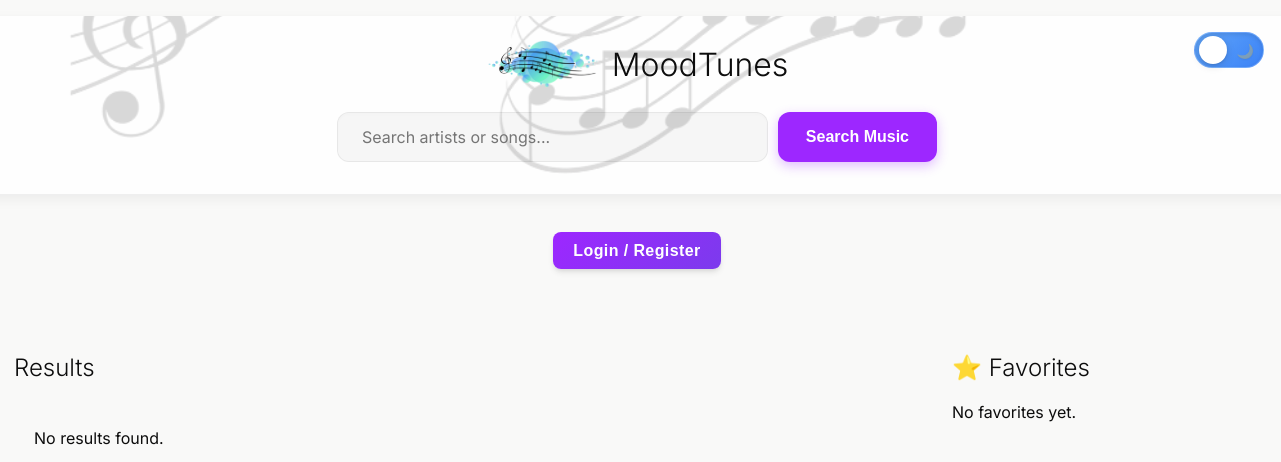
Test case: App Component › Search Flow › clears search
Type "Val" into the field with placeholder "Search artists or songs...".
click(552, 137); type("Val")  # box top-left (337, 112), bottom-right (768, 162)
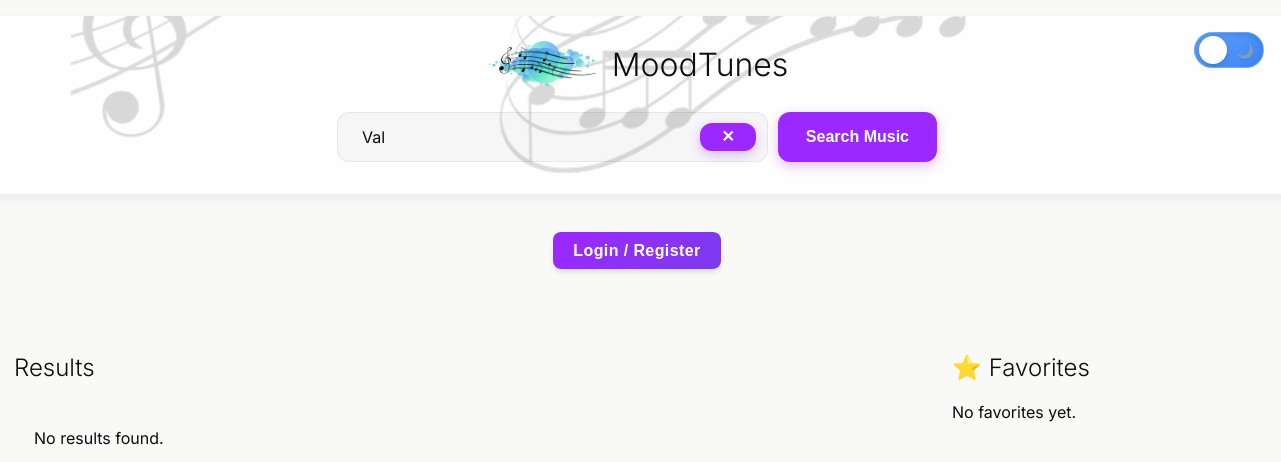
Click the button named "Clear search".
click(728, 137)  # box top-left (700, 123), bottom-right (756, 151)
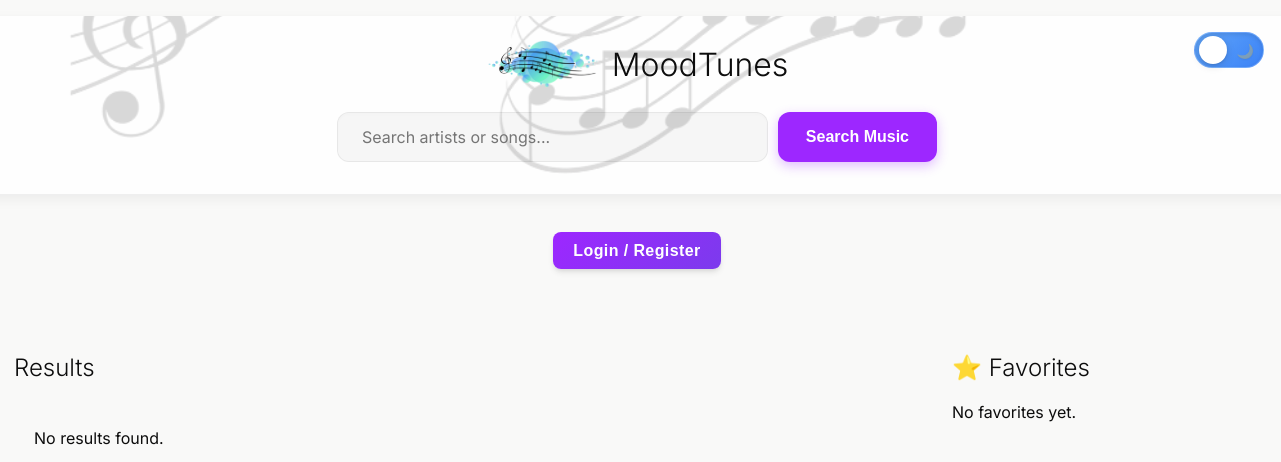
expect the field with placeholder "Search artists or songs..." is empty: met, box top-left (337, 112), bottom-right (768, 162)
